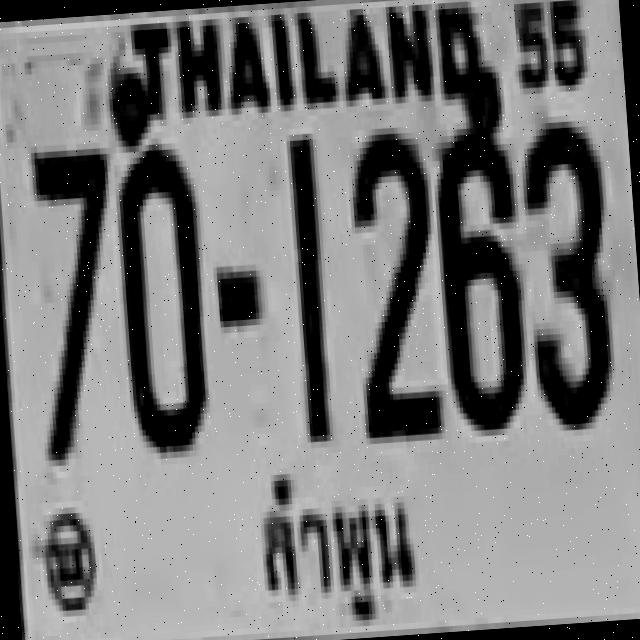0: (109, 138, 209, 452)
1: (282, 130, 330, 440)
2: (342, 125, 442, 432)
3: (515, 114, 615, 426)
6: (430, 120, 526, 426)
7: (23, 142, 124, 460)
Lamphun: (243, 453, 427, 636)
